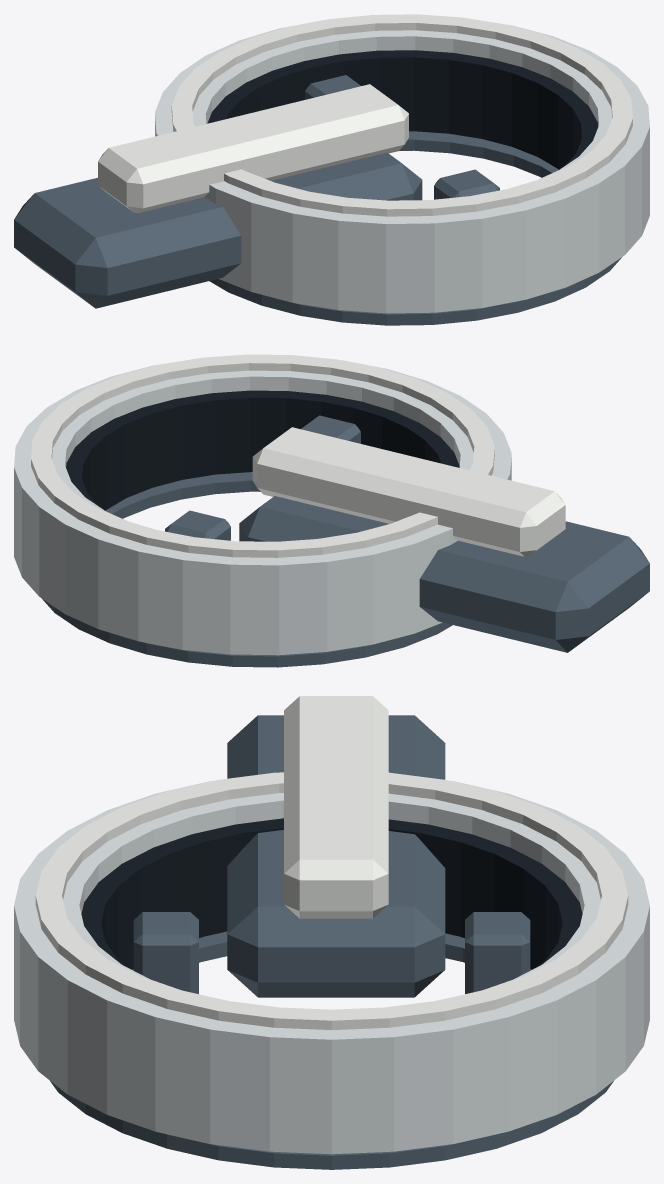
Rendered from 05_right_housing.obj.
3 views of the same model, one above another, from view 1: azimuth 30°, elevation 25°; view 2: azimuth 150°, elevation 25°; view 3: azimuth 270°, elevation 25° (orthographic). The views are drawn at different scales.
Visible parts, largest first — view 1: fragment_05_right_housing; view 2: fragment_05_right_housing; view 3: fragment_05_right_housing.
Part boxes in pixels (x1,y1,x2,y2): fragment_05_right_housing: (14, 14, 649, 325); fragment_05_right_housing: (14, 354, 649, 667); fragment_05_right_housing: (14, 696, 649, 1169).
Bounding box in the file's own units: 0.97 × 0.2215 × 0.73.
